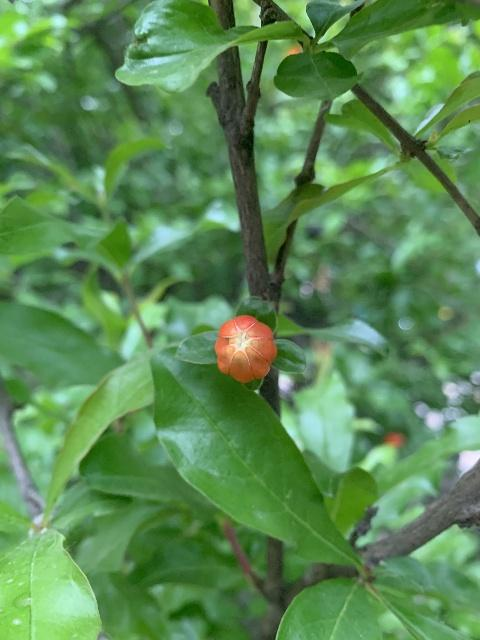bud: (214, 314, 276, 383)
